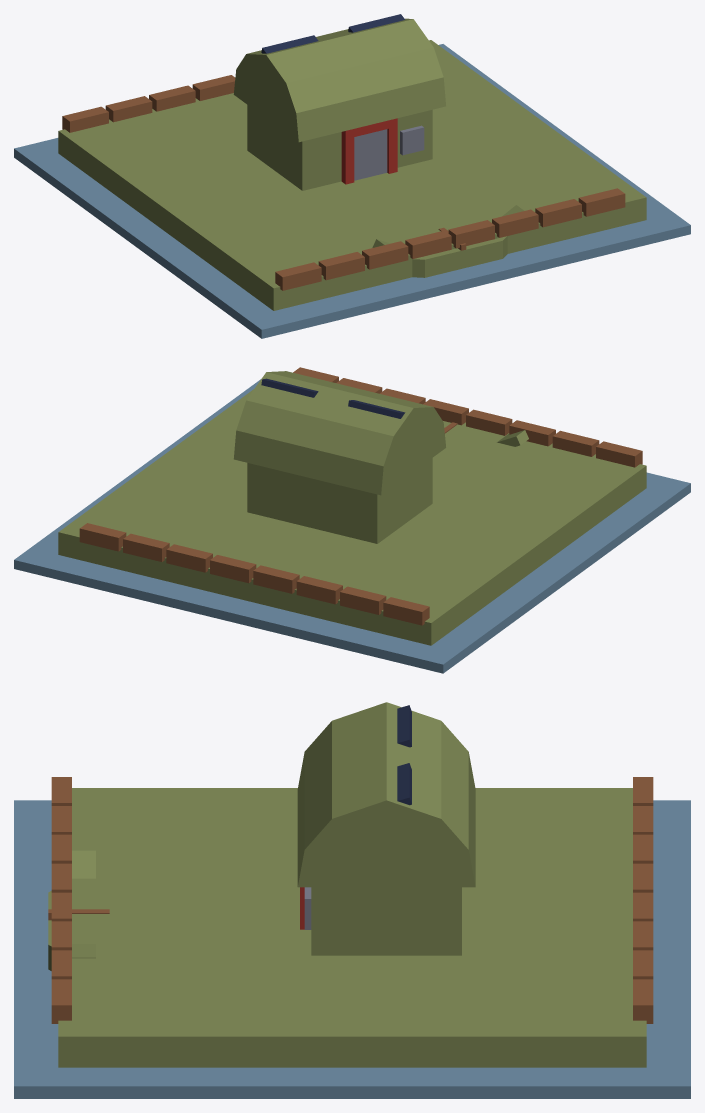
File: house-1x1-1f-totora-a-solar.glb
3 views of the same model, one above another, from view 1: azimuth 30°, elevation 25°; view 2: azimuth 150°, elevation 25°; view 3: azimuth 270°, elevation 25° (orthographic). The views are drawn at different scales.
Visible parts, largest first — view 1: house-1x1-1f-totora-a-solar; view 2: house-1x1-1f-totora-a-solar; view 3: house-1x1-1f-totora-a-solar.
Part boxes in pixels (left/top/right/bottom): house-1x1-1f-totora-a-solar: left=14, top=14, right=690, bottom=338; house-1x1-1f-totora-a-solar: left=14, top=367, right=690, bottom=673; house-1x1-1f-totora-a-solar: left=14, top=702, right=690, bottom=1098.
Bounding box in the file's own units: 0.99 × 0.33 × 0.99.
1 material, 1 textured.
